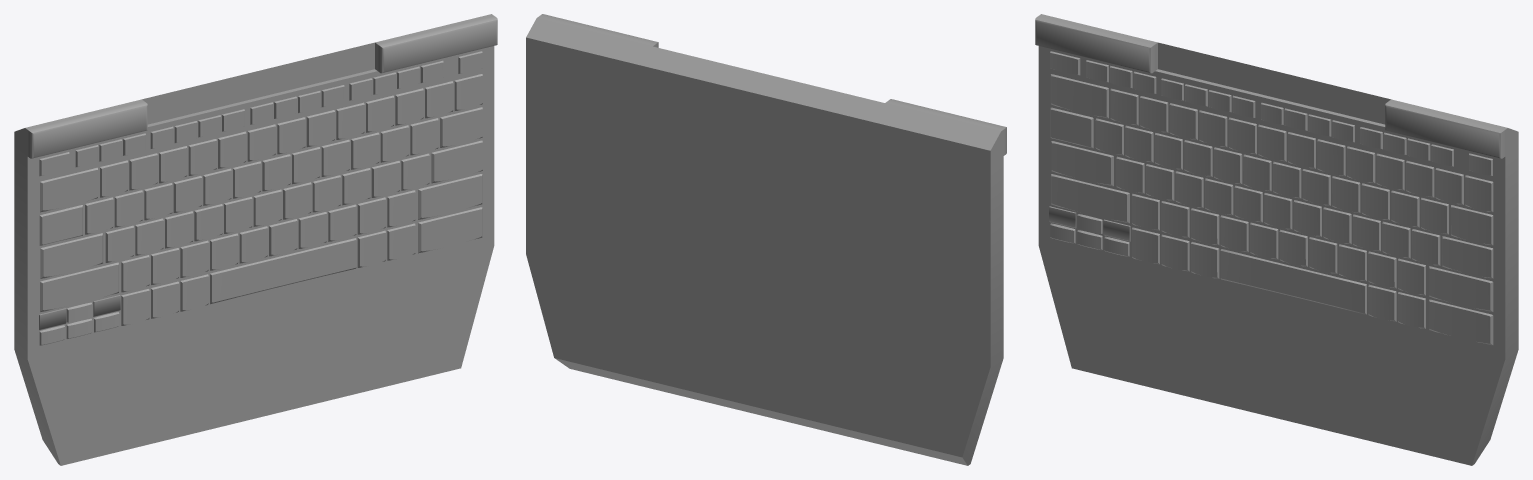
The model's file is MainMeshLaptop_24_1_GeomSubset_0.obj.
3 renders of one model, left to right at view 1: azimuth 30°, elevation 25°; view 2: azimuth 150°, elevation 25°; view 3: azimuth 330°, elevation 25°, orthographic.
Parts seen in each view (by area): view 1: MainMeshLaptop_24_1_GeomSubset_0; view 2: MainMeshLaptop_24_1_GeomSubset_0; view 3: MainMeshLaptop_24_1_GeomSubset_0.
Boxes of the visible parts, x1,y1,x2,y2 form: MainMeshLaptop_24_1_GeomSubset_0: (14,14,497,465); MainMeshLaptop_24_1_GeomSubset_0: (526,14,1006,465); MainMeshLaptop_24_1_GeomSubset_0: (1035,14,1518,465).
Size of the model in its own units: 0.3986 by 0.281 by 0.0261.
